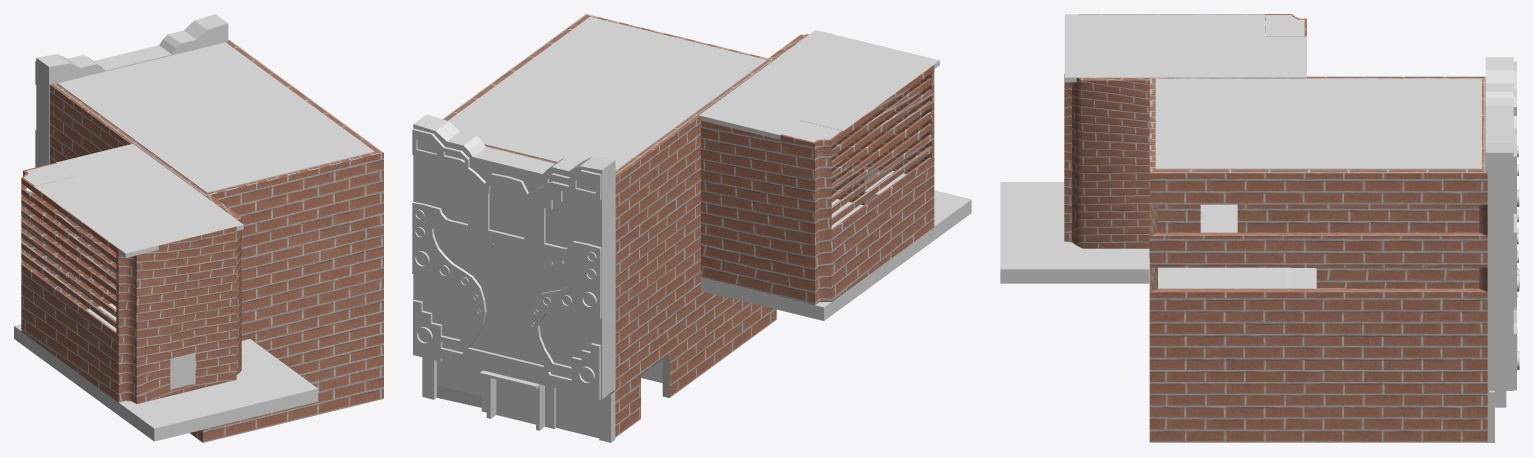
File: EdificioPuzzleFinal.fbx
The picture shows the model from 3 angles, left to right: view 1: azimuth 30°, elevation 25°; view 2: azimuth 150°, elevation 25°; view 3: azimuth 270°, elevation 25°; orthographic projection. The views are drawn at different scales.
Visible parts, largest first — view 1: Cube.003, Cube.013, Cube.012, Cube.008, Cube, Cube.009, Cube.011; view 2: Cube.003, Cube, Cube.013, Plane, Cube.012, Cube.001, Cube.008, Cube.002, Cube.011; view 3: Cube.003, Cube.013, Cube.012, Cube.008, Cube, Cube.007, Plane, Cube.011, Cube.001, Cube.006.
Part boxes in pixels (box(x1,y1,x2,y2)): Cube.003: box(21, 40, 383, 442); Cube.013: box(57, 42, 374, 193); Cube.012: box(34, 144, 243, 257); Cube.008: box(14, 303, 318, 441); Cube: box(36, 14, 228, 167); Cube.009: box(170, 352, 195, 389); Cube.011: box(23, 163, 74, 192); Cube.003: box(442, 14, 934, 437); Cube: box(413, 114, 615, 399); Cube.013: box(448, 16, 766, 171); Plane: box(412, 128, 601, 400); Cube.012: box(699, 30, 939, 139); Cube.001: box(422, 357, 615, 442); Cube.008: box(701, 190, 971, 320); Cube.002: box(496, 379, 535, 424); Cube.011: box(782, 120, 841, 155); Cube.003: box(1064, 14, 1487, 442); Cube.013: box(1155, 79, 1481, 169); Cube.012: box(1064, 14, 1306, 82); Cube.008: box(1000, 182, 1237, 283); Cube: box(1485, 57, 1513, 390); Cube.007: box(1158, 267, 1291, 288); Plane: box(1513, 61, 1516, 390); Cube.011: box(1265, 15, 1304, 36); Cube.001: box(1486, 329, 1517, 442); Cube.006: box(1291, 268, 1316, 288).
Bounding box in the file's own units: 4816 × 4096 × 6643.
